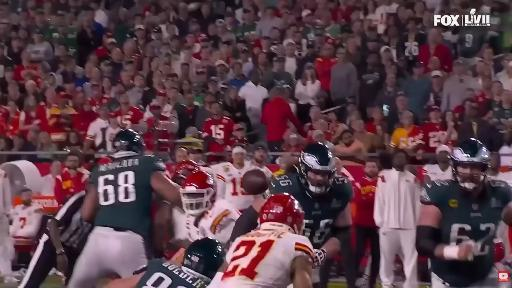Helmet: (452, 139, 490, 190), (299, 143, 335, 196), (182, 238, 225, 282), (259, 194, 304, 234), (180, 171, 216, 215), (113, 128, 144, 153), (171, 160, 200, 184), (494, 238, 505, 262)
Jersey: (422, 180, 511, 287), (91, 152, 165, 238), (269, 174, 353, 249), (219, 229, 314, 287), (173, 199, 240, 244), (211, 161, 259, 210), (136, 260, 207, 287), (10, 203, 42, 237), (423, 165, 453, 181), (488, 172, 511, 186)
Player: (231, 143, 355, 287), (68, 129, 179, 287), (417, 139, 511, 287), (212, 194, 314, 287), (105, 238, 224, 287), (174, 171, 239, 244), (211, 145, 258, 210), (10, 188, 42, 242), (423, 145, 453, 183), (166, 160, 200, 185)
